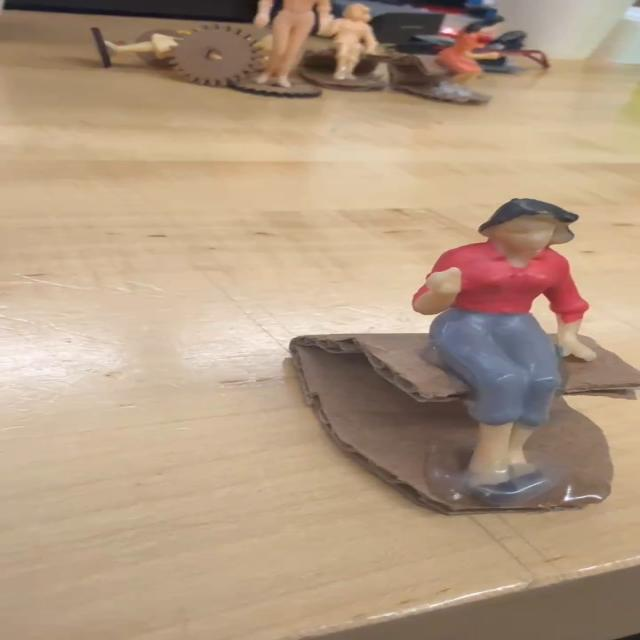Authorized: (349, 187, 620, 511)
